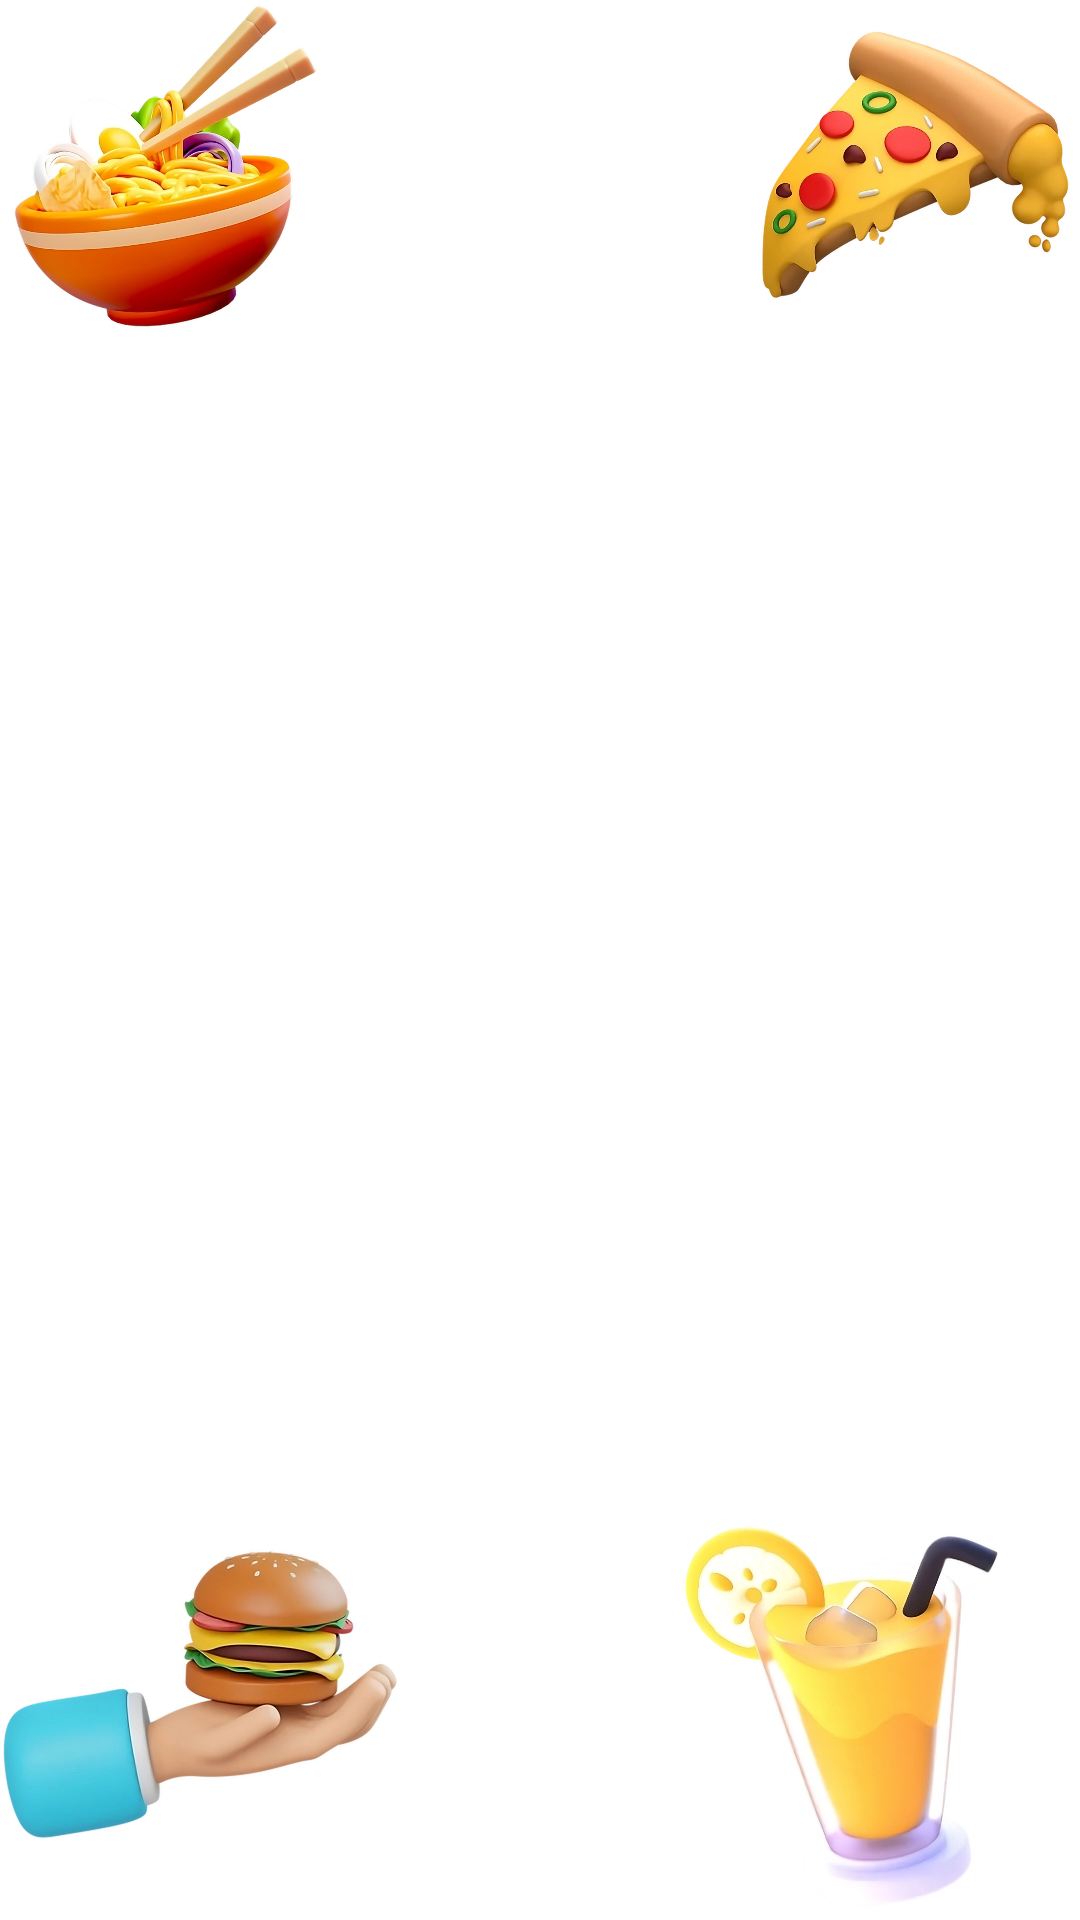

Icon click points for this 1080w x 1920h phone screenshot, format point (x, y):
noodles: point (165, 166)
pizzaslice: point (915, 165)
